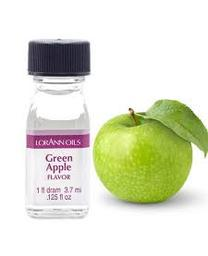apple: (92, 99, 207, 203)
